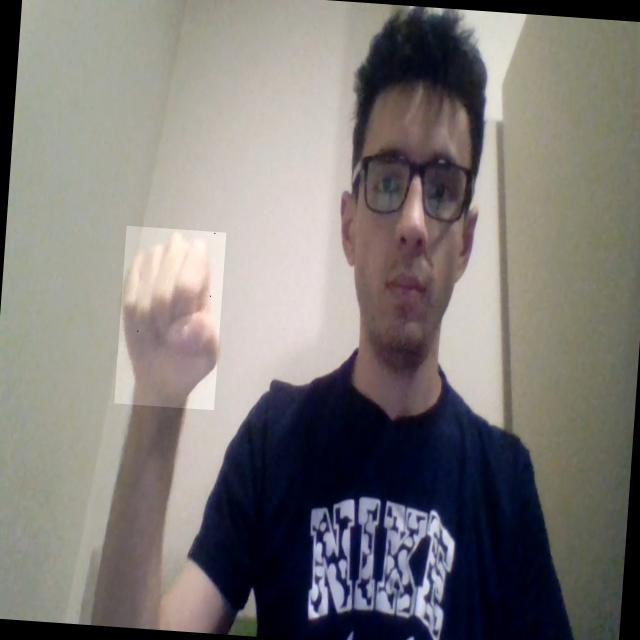yes: (114, 225, 226, 410)
